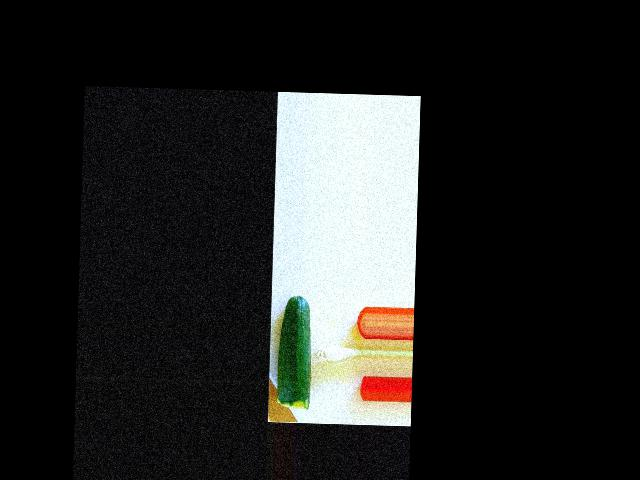cucumber: (275, 294, 312, 409)
